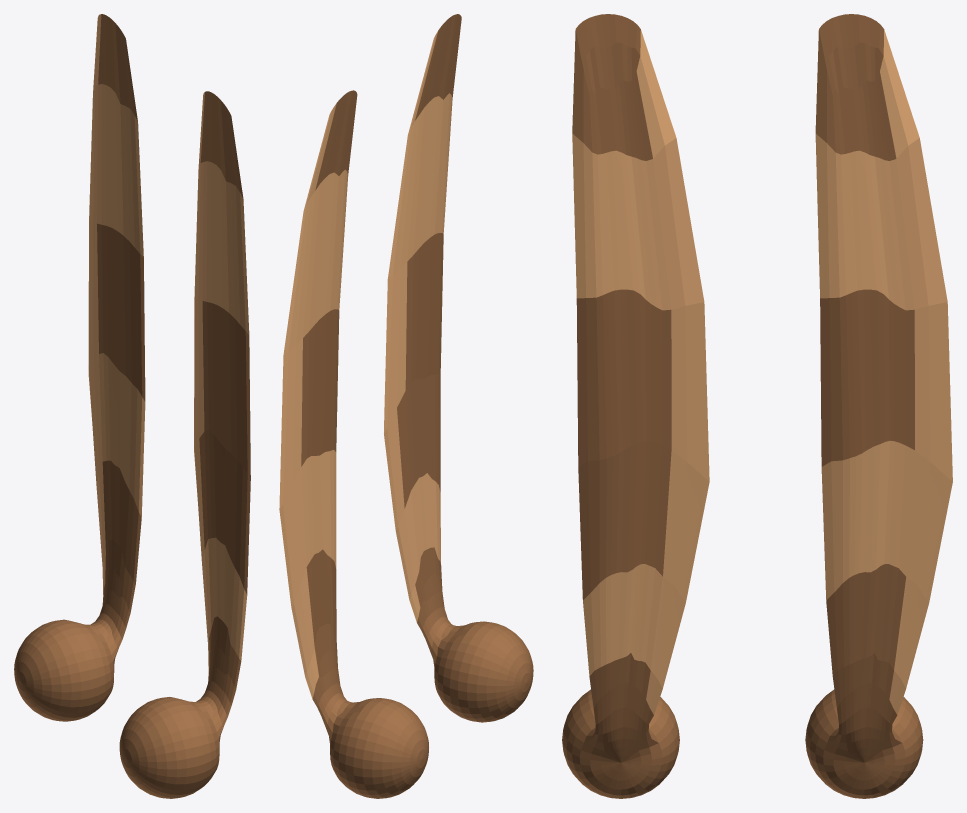
File: Aerofoilet.fbx
3 renders of one model, left to right at view 1: azimuth 30°, elevation 25°; view 2: azimuth 150°, elevation 25°; view 3: azimuth 270°, elevation 25°, orthographic. The views are drawn at different scales.
Visible parts, largest first — view 1: Aerofoilet - VoidBeat; view 2: Aerofoilet - VoidBeat; view 3: Aerofoilet - VoidBeat.
Boxes of the visible parts, x1,y1,x2,y2 form: Aerofoilet - VoidBeat: (14,14,250,798); Aerofoilet - VoidBeat: (279,14,533,798); Aerofoilet - VoidBeat: (562,14,952,798).
Size of the model in its own units: 27.81 by 165 by 72.75.
